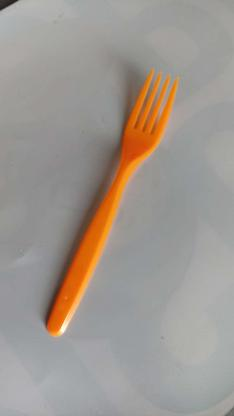Others: (39, 64, 182, 342)
